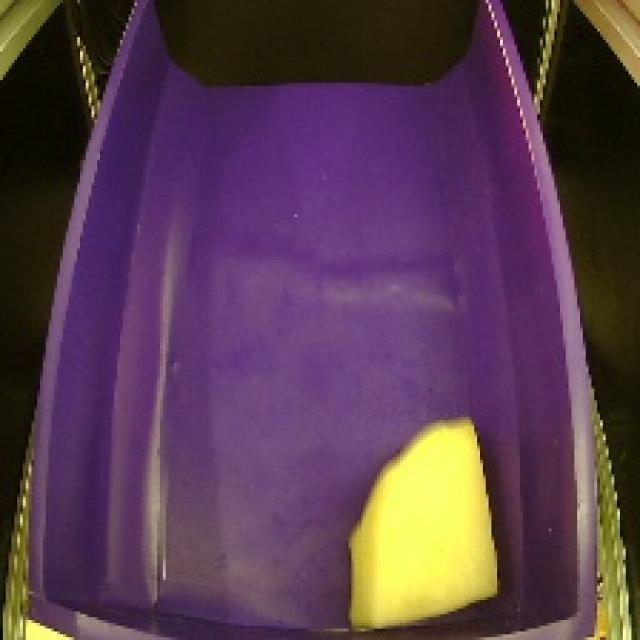potato: (324, 406, 516, 632)
